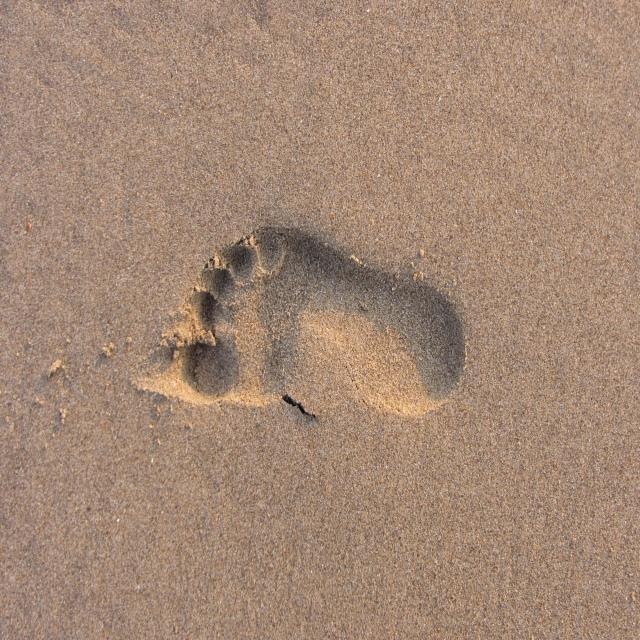human_foot_print: (128, 221, 469, 426)
